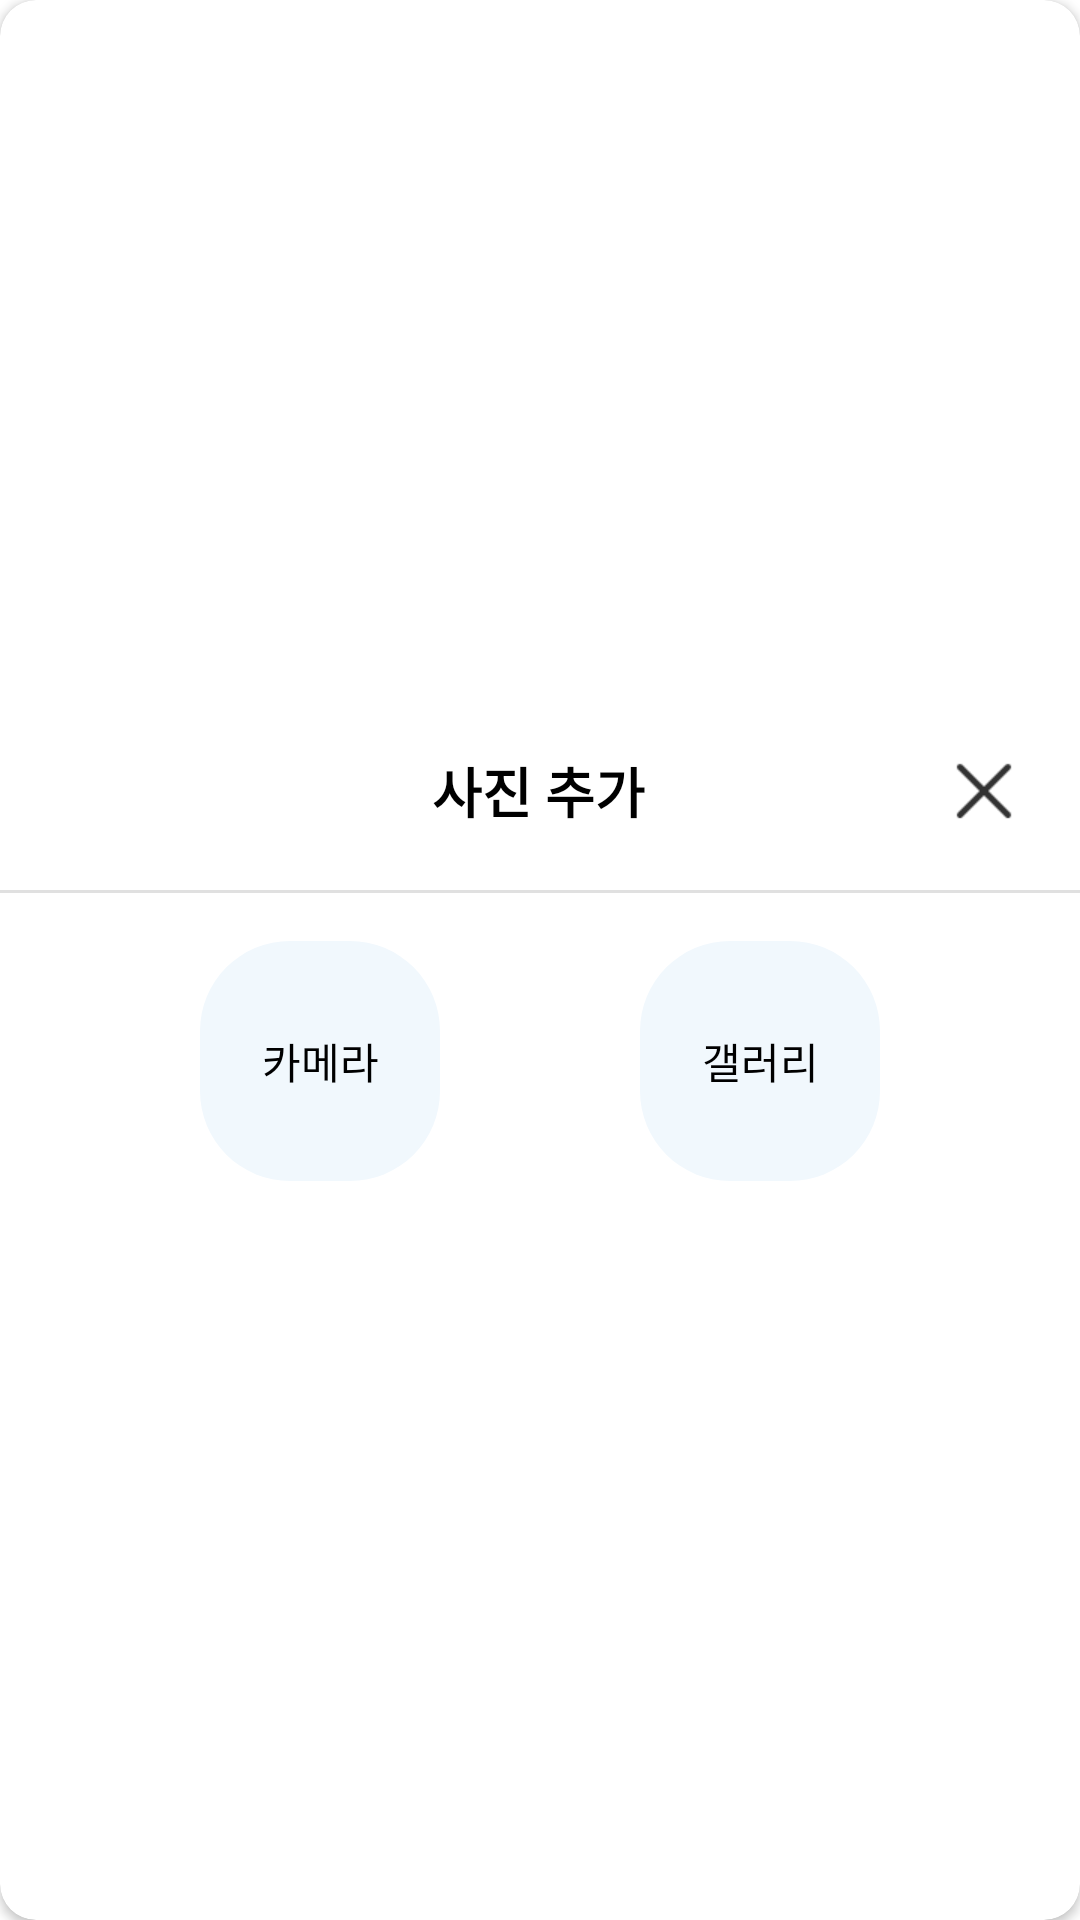

Icons on this 1080×1920 Android screen, each with the point to tap as point (x, y):
close: point (984, 791)
